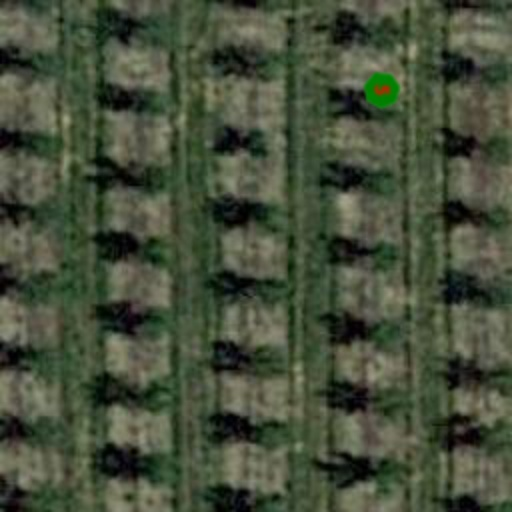heptagon: (360, 68, 404, 112)
